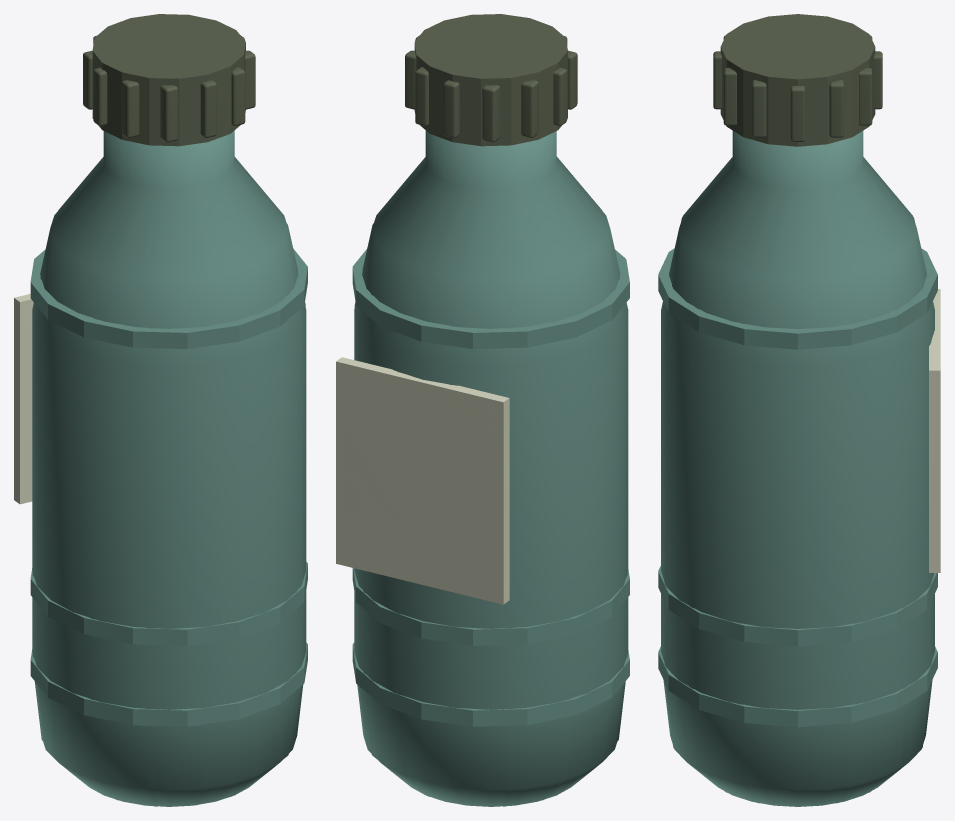
File: WaterBottle.fbx
3 views of the same model, side by side, from view 1: azimuth 30°, elevation 25°; view 2: azimuth 150°, elevation 25°; view 3: azimuth 270°, elevation 25° (orthographic).
Parts seen in each view (by area): view 1: LOD0_SupplyBottle, LOD1_SupplyBottle, LOD0_GearStrap, LOD1_GearStrap, LOD1_SupplyLabel, LOD0_SupplyLabel; view 2: LOD0_SupplyBottle, LOD1_SupplyLabel, LOD0_SupplyLabel, LOD0_GearStrap, LOD1_SupplyBottle, LOD1_GearStrap; view 3: LOD0_SupplyBottle, LOD1_SupplyBottle, LOD0_GearStrap, LOD1_SupplyLabel, LOD1_GearStrap.
Boxes of the visible parts, x1,y1,x2,y2 form: LOD0_SupplyBottle: [30, 130, 307, 806]; LOD1_SupplyBottle: [32, 131, 305, 806]; LOD0_GearStrap: [83, 14, 255, 146]; LOD1_GearStrap: [95, 15, 243, 77]; LOD1_SupplyLabel: [14, 294, 33, 504]; LOD0_SupplyLabel: [25, 304, 33, 497]; LOD0_SupplyBottle: [352, 130, 629, 806]; LOD1_SupplyLabel: [336, 357, 509, 604]; LOD0_SupplyLabel: [341, 368, 498, 597]; LOD0_GearStrap: [405, 14, 577, 146]; LOD1_SupplyBottle: [354, 131, 627, 806]; LOD1_GearStrap: [417, 15, 564, 77]; LOD0_SupplyBottle: [658, 131, 937, 806]; LOD1_SupplyBottle: [659, 132, 937, 803]; LOD0_GearStrap: [713, 14, 882, 146]; LOD1_SupplyLabel: [929, 289, 940, 572]; LOD1_GearStrap: [721, 14, 874, 78].
Bounding box in the file's own units: 9.4 × 26.75 × 9.5.
